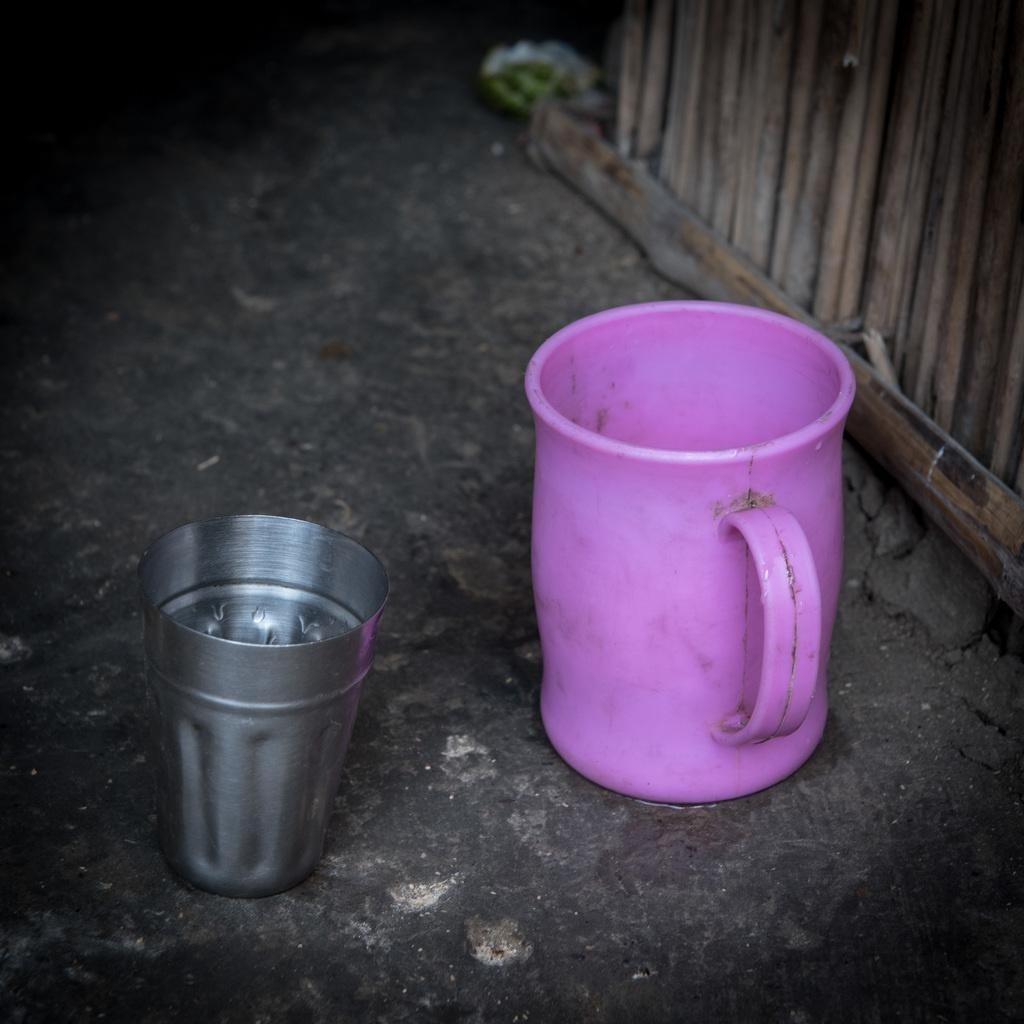cup-disposable: (121, 514, 393, 896)
cup-handle: (518, 300, 860, 810)
